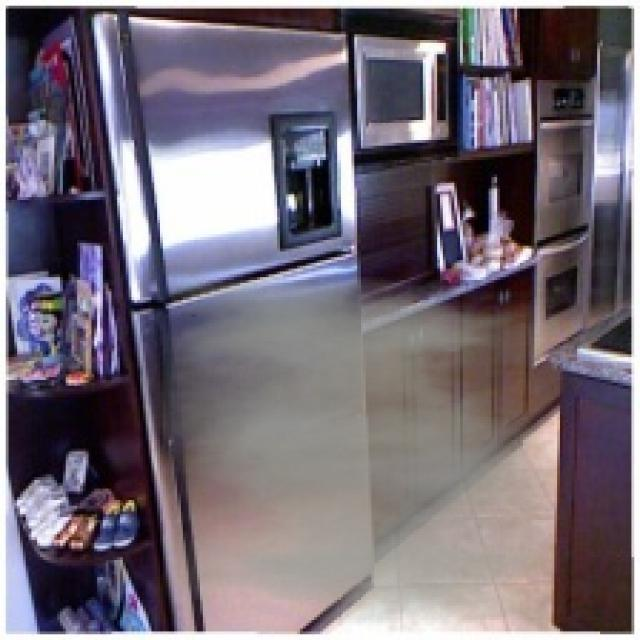Smoke: (163, 277, 560, 626)
